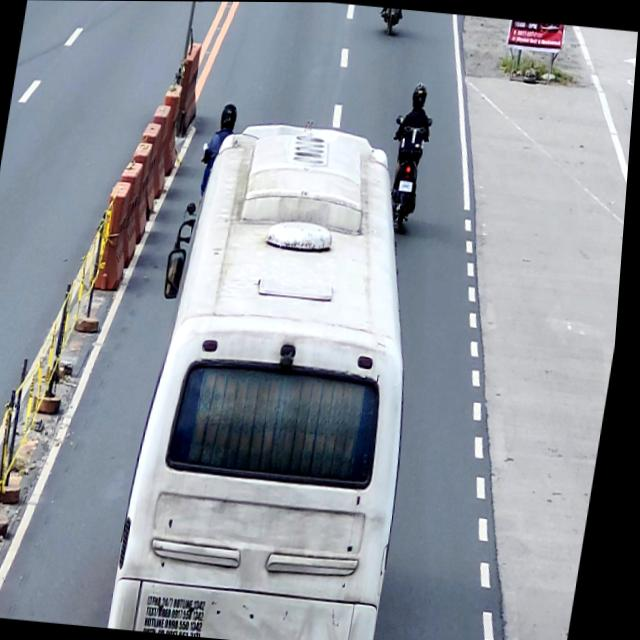Bus: (114, 111, 460, 640)
License-Plate: (400, 178, 415, 191)
Motorcycle: (381, 112, 436, 233), (195, 139, 217, 207), (377, 6, 403, 35)
